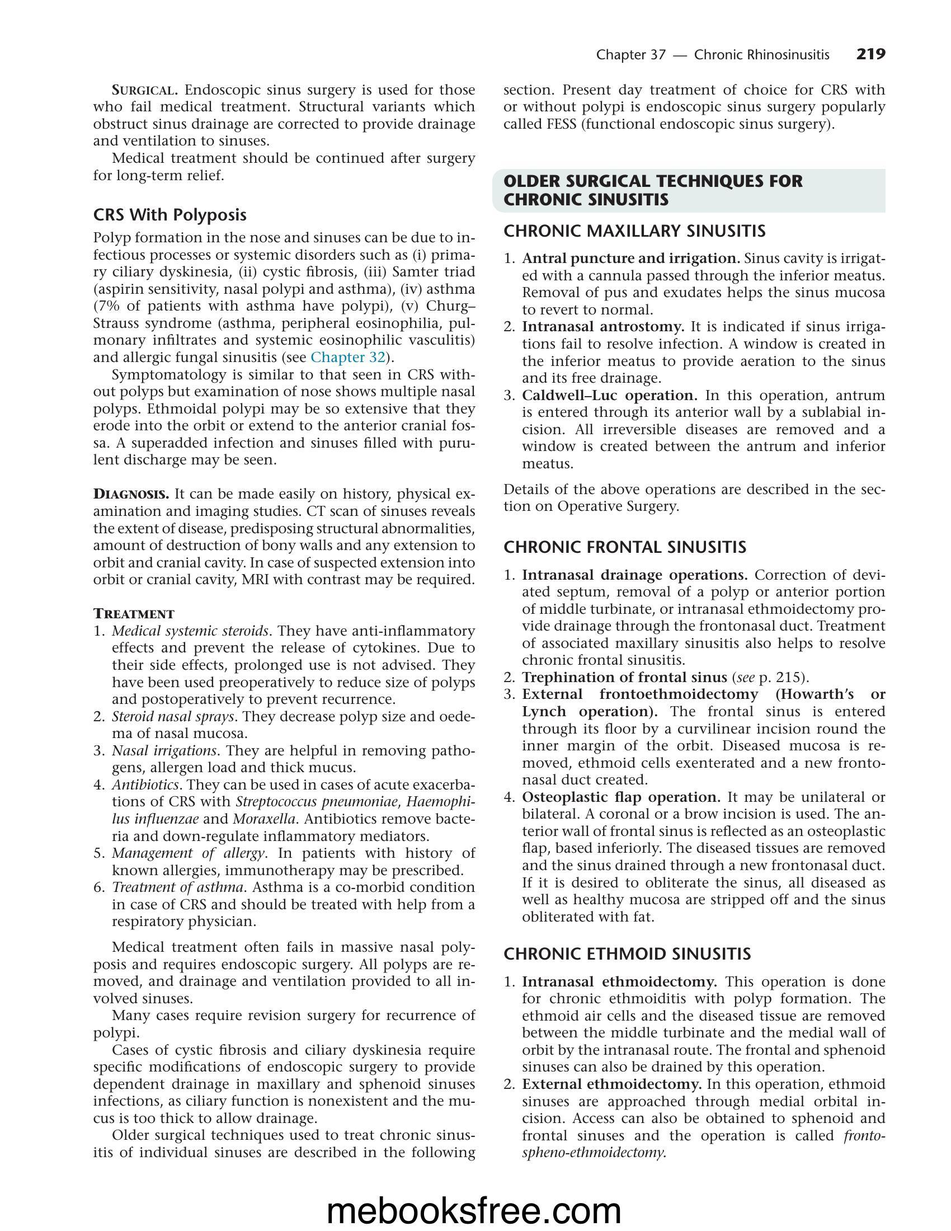header: (596, 48, 831, 65)
list: (502, 567, 886, 924), (91, 623, 478, 931), (503, 250, 888, 471), (502, 973, 888, 1162)
section-heading: (502, 172, 805, 207)
sub-section-heading: (503, 222, 766, 239), (503, 945, 751, 962), (503, 538, 747, 555), (93, 205, 246, 227), (92, 606, 175, 619)
text: (92, 230, 475, 590), (91, 939, 477, 1163), (92, 82, 477, 185), (502, 82, 886, 134), (502, 481, 886, 516)
